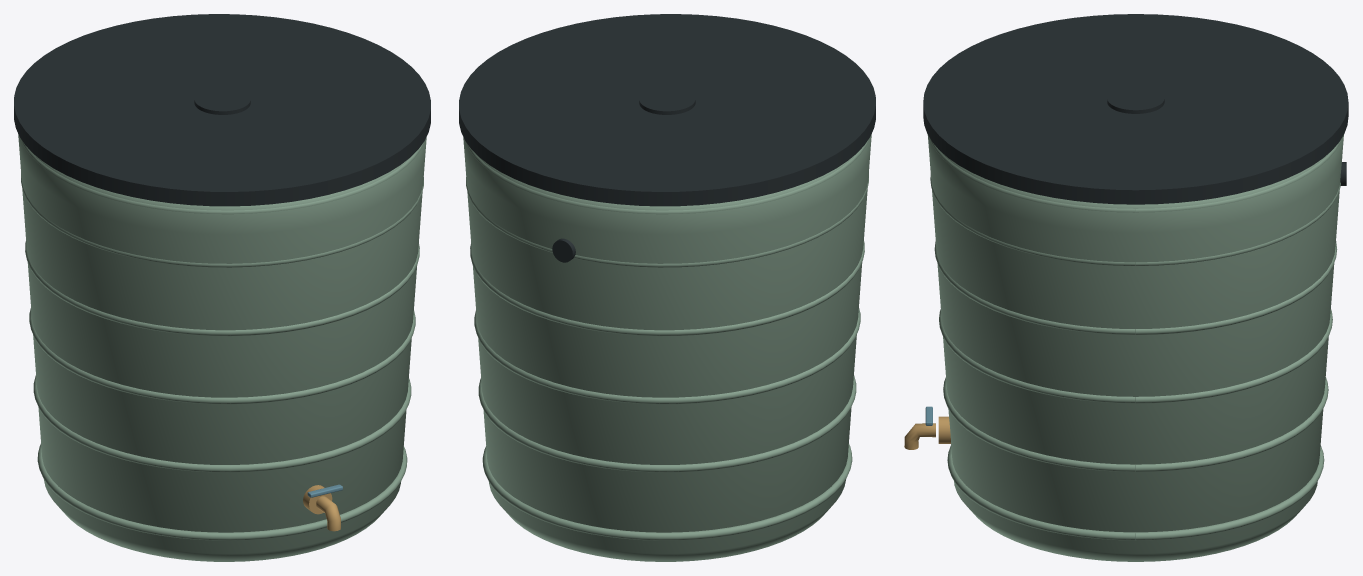
Rendered from rainwater-barrel.glb.
3 renders of one model, left to right at view 1: azimuth 30°, elevation 25°; view 2: azimuth 150°, elevation 25°; view 3: azimuth 270°, elevation 25°, orthographic.
Parts seen in each view (by area): view 1: catalog_surface_RealismUV, catalog_surface_UVMap; view 2: catalog_surface_RealismUV, catalog_surface_UVMap; view 3: catalog_surface_RealismUV, catalog_surface_UVMap.
Part boxes in pixels (<box>): catalog_surface_RealismUV: <box>18,133,426,561</box>; catalog_surface_UVMap: <box>14,14,430,206</box>; catalog_surface_RealismUV: <box>463,133,871,561</box>; catalog_surface_UVMap: <box>459,14,875,262</box>; catalog_surface_RealismUV: <box>904,135,1343,561</box>; catalog_surface_UVMap: <box>923,14,1348,204</box>.
Size of the model in its own units: 0.77 by 0.8 by 0.82.
